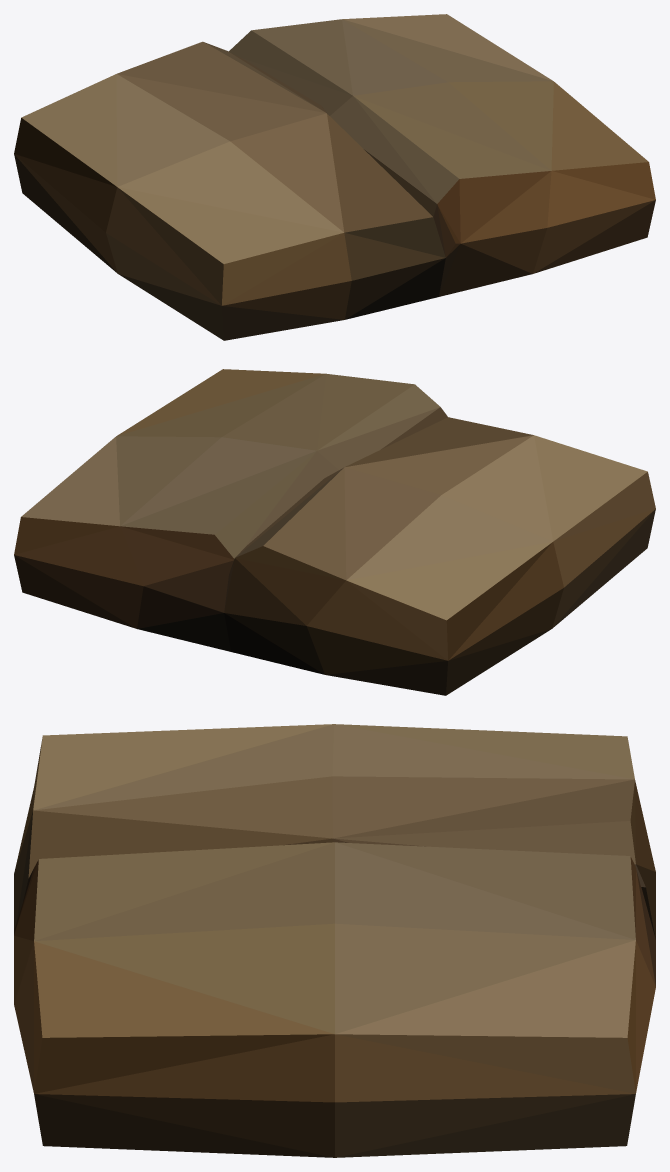
File: prop_literature_book_open_1.fbx
3 renders of one model, top to bottom at view 1: azimuth 30°, elevation 25°; view 2: azimuth 150°, elevation 25°; view 3: azimuth 270°, elevation 25°, orthographic. The views are drawn at different scales.
Visible parts, largest first — view 1: prop_literature_book_open_1; view 2: prop_literature_book_open_1; view 3: prop_literature_book_open_1.
Boxes of the visible parts, box(x1,y1,x2,y2) form: prop_literature_book_open_1: box(14, 14, 655, 340); prop_literature_book_open_1: box(14, 369, 655, 695); prop_literature_book_open_1: box(14, 724, 655, 1157).
Size of the model in its own units: 0.7106 by 0.1976 by 0.5955.
